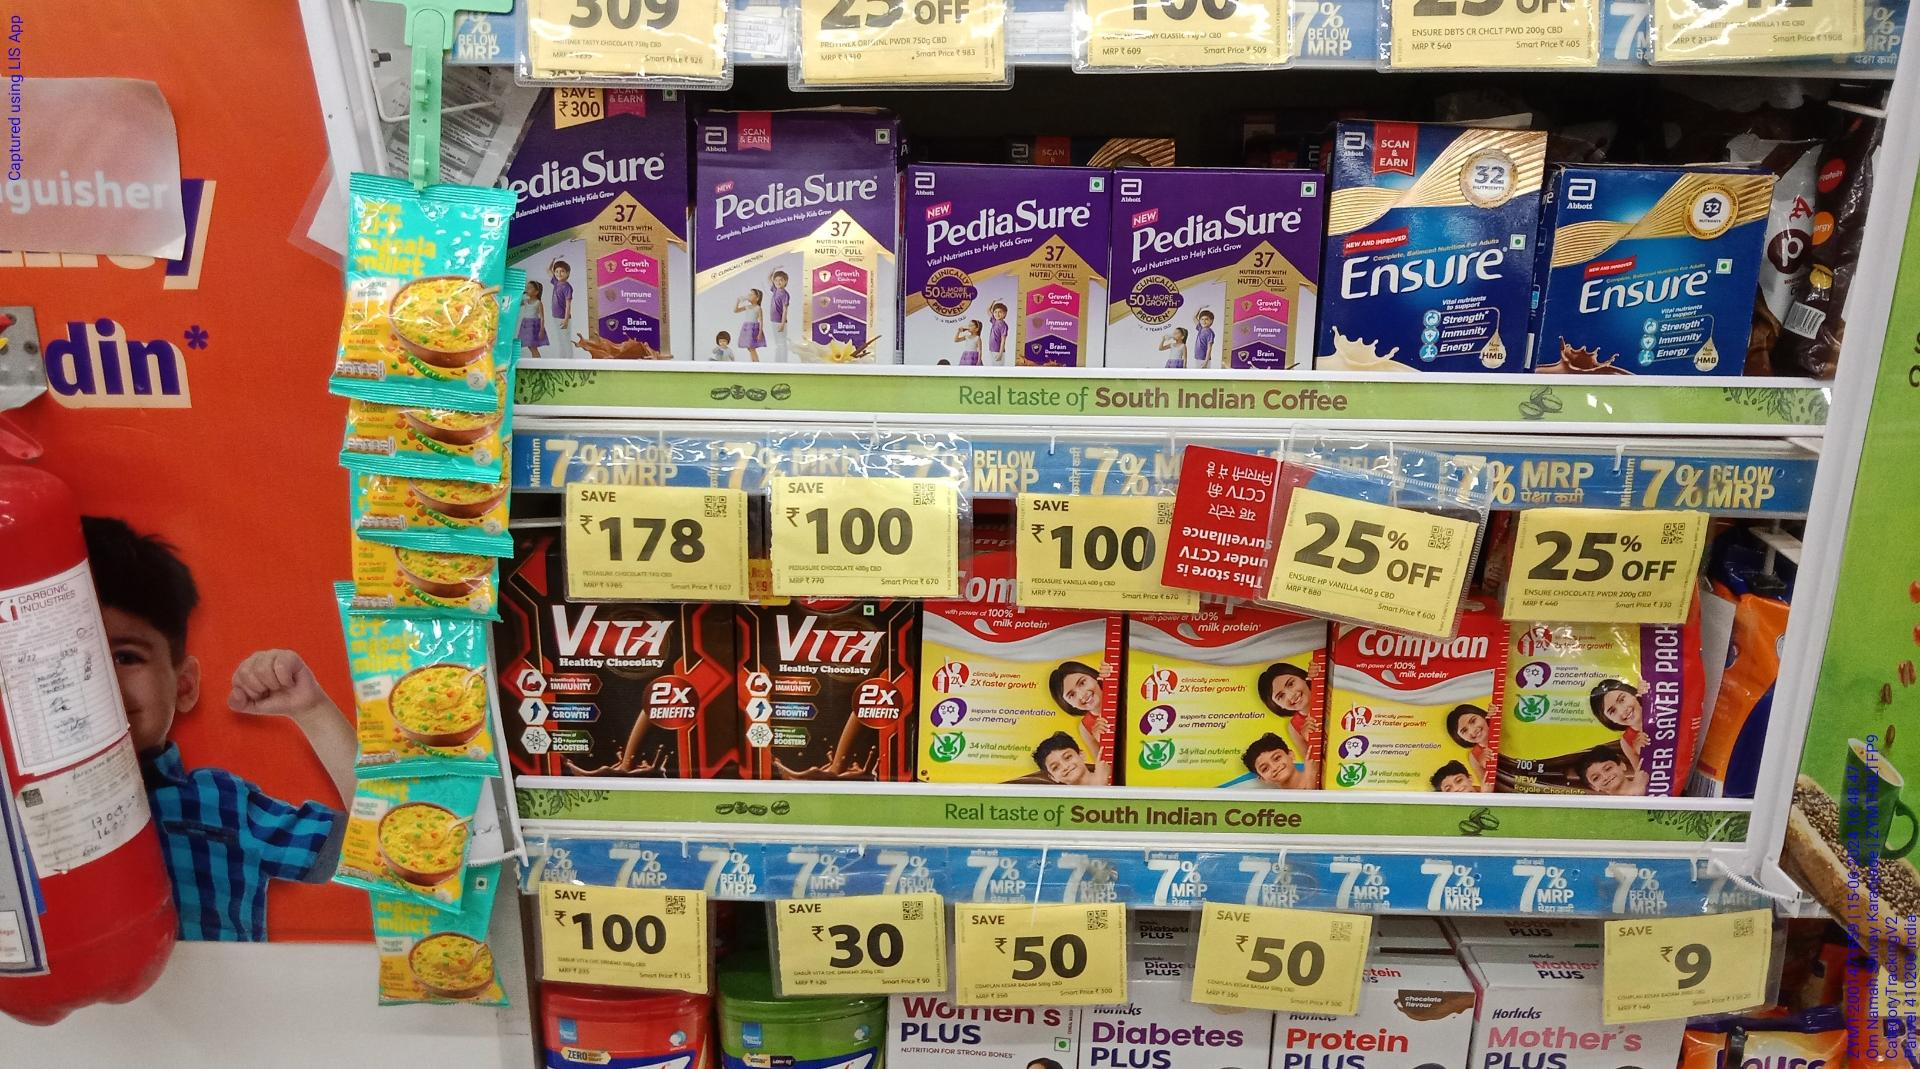COMPLAN_CREAMY_CLASSIC_500_G_PACK: (1125, 613, 1321, 790)
COMPLAN_RC_POUCH_700_GMS_12: (1509, 615, 1682, 800)
ENSURE_VANILLA_400_G_PACK: (1329, 122, 1534, 377)
PEDIASURE_VANILLA_500_G_PACK: (699, 116, 897, 361)
